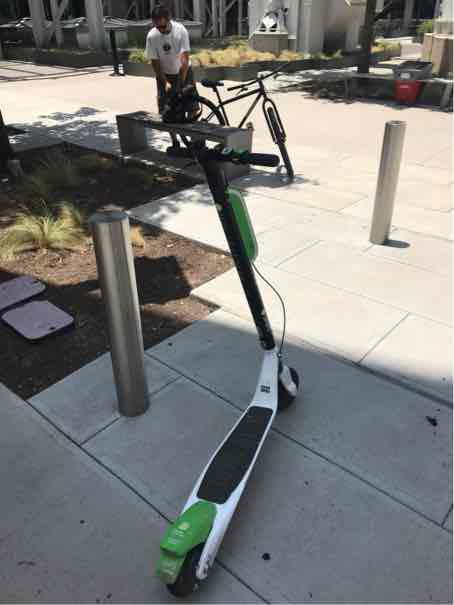scooter: (112, 121, 323, 603)
